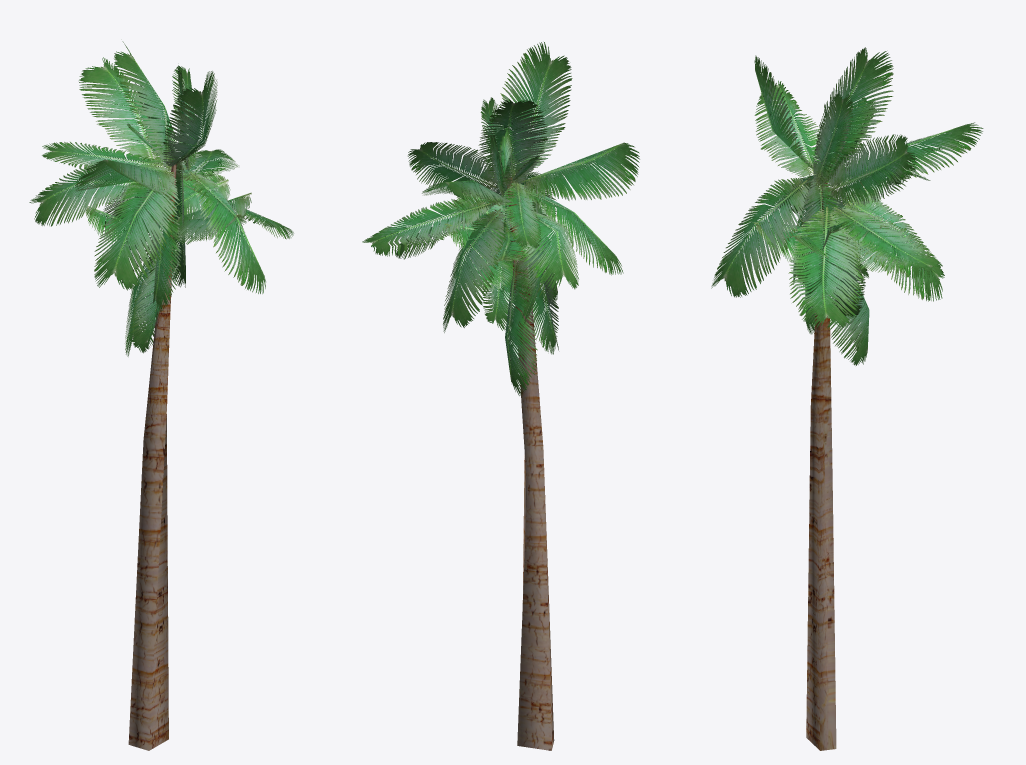
The model's file is palm_tree_1_texta.glb.
The picture shows the model from 3 angles, left to right: view 1: azimuth 30°, elevation 25°; view 2: azimuth 150°, elevation 25°; view 3: azimuth 270°, elevation 25°; orthographic projection. The views are drawn at different scales.
Visible parts, largest first — view 1: jungle_tree_2_leaves.001; view 2: jungle_tree_2_leaves.001; view 3: jungle_tree_2_leaves.001.
Part boxes in pixels (bbox=[...]): jungle_tree_2_leaves.001: bbox=[29, 41, 293, 750]; jungle_tree_2_leaves.001: bbox=[362, 42, 639, 750]; jungle_tree_2_leaves.001: bbox=[711, 47, 983, 750].
Bounding box in the file's own units: 8.5 × 20.96 × 8.25.
Materials: 1 (1 with a texture image).
